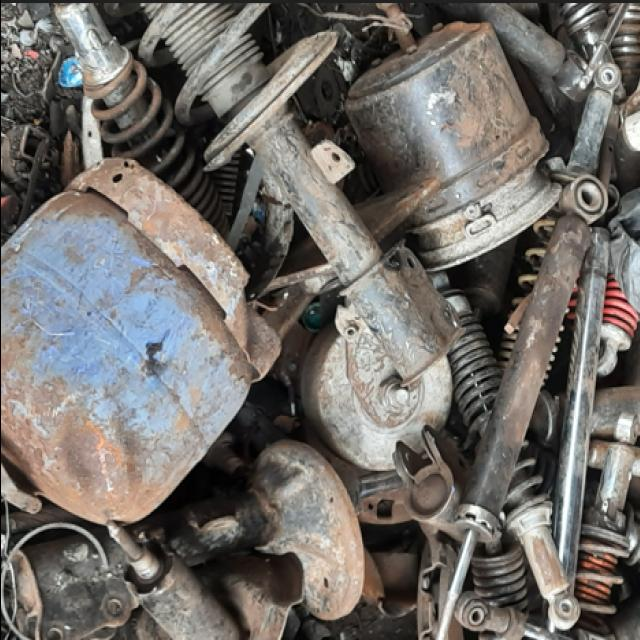cylinder: (2, 159, 281, 525)
shock absorber: (131, 0, 465, 390), (435, 174, 607, 638), (51, 4, 231, 238), (565, 440, 640, 637)
